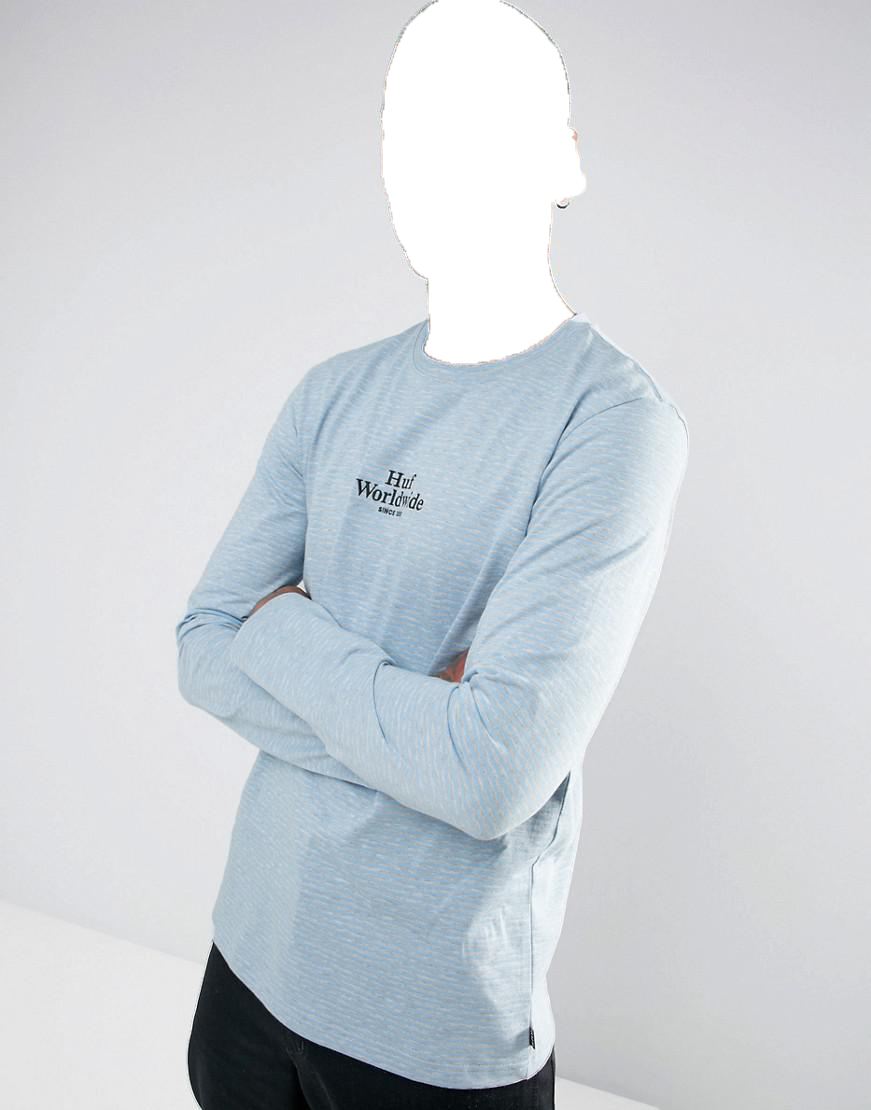teeshirt: (166, 322, 712, 1096)
